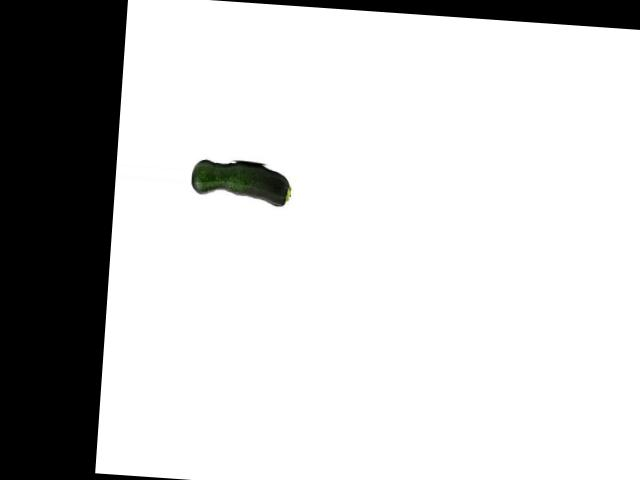cucumber: (190, 158, 293, 207)
